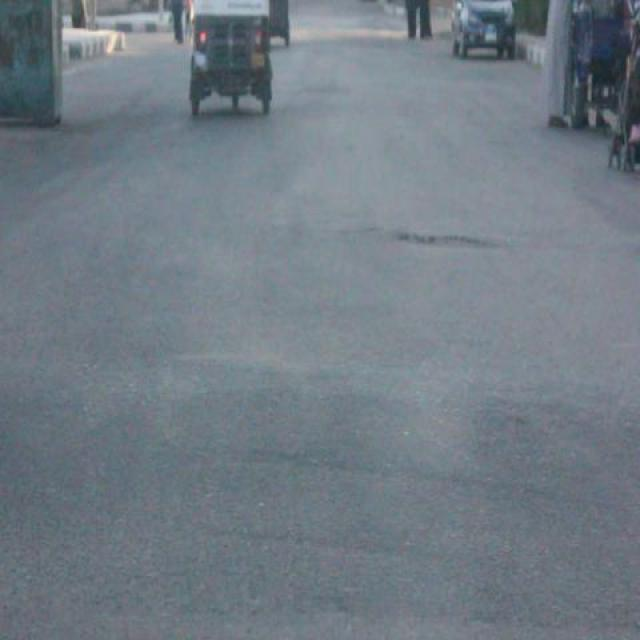Pothole: (386, 222, 512, 264)
Unmarked Bump: (0, 345, 640, 631)
